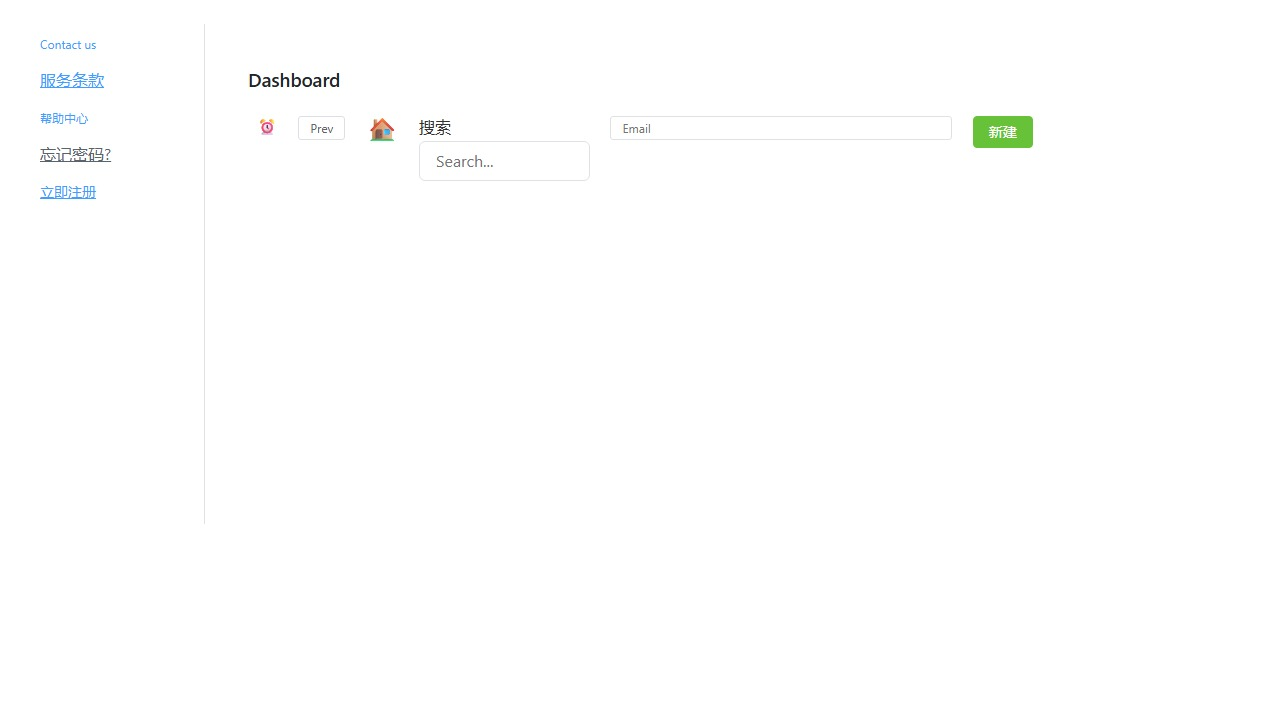button: (973, 116, 1033, 148), (298, 116, 345, 140)
icon: (366, 116, 399, 140), (256, 119, 278, 135)
input: (610, 116, 952, 140), (419, 141, 590, 181)
link: (40, 143, 111, 164), (40, 69, 104, 90), (40, 182, 96, 201), (40, 36, 96, 52), (40, 110, 88, 126)
